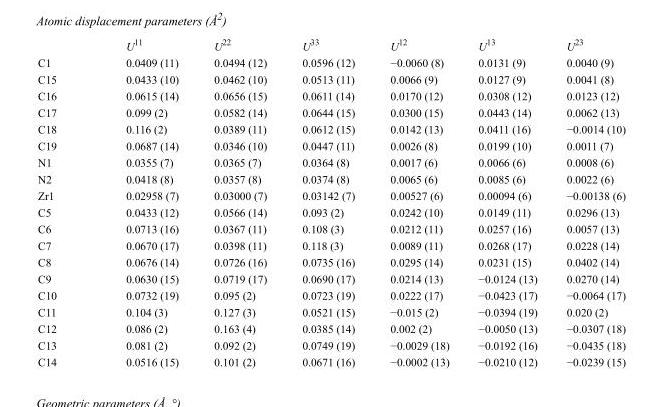table: (37, 36, 624, 367)
table column: (90, 36, 195, 367), (371, 36, 463, 367), (195, 36, 283, 367), (283, 36, 371, 367), (463, 36, 551, 367), (551, 36, 624, 367), (37, 36, 90, 367)
table column header: (37, 36, 624, 53)
table row: (37, 36, 624, 53), (37, 53, 624, 70), (37, 70, 624, 87), (37, 103, 624, 120), (37, 120, 624, 137), (37, 153, 624, 170), (37, 186, 624, 203), (37, 203, 624, 220), (37, 236, 624, 253), (37, 253, 624, 270), (37, 286, 624, 303), (37, 319, 624, 336), (37, 336, 624, 353), (37, 87, 624, 103), (37, 137, 624, 153), (37, 170, 624, 186), (37, 220, 624, 236), (37, 270, 624, 286), (37, 303, 624, 319), (37, 353, 624, 367)
